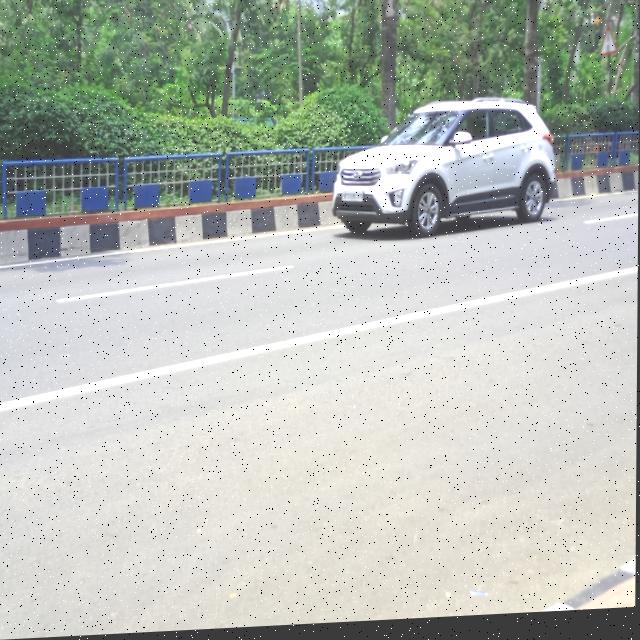car: (324, 91, 569, 244)
